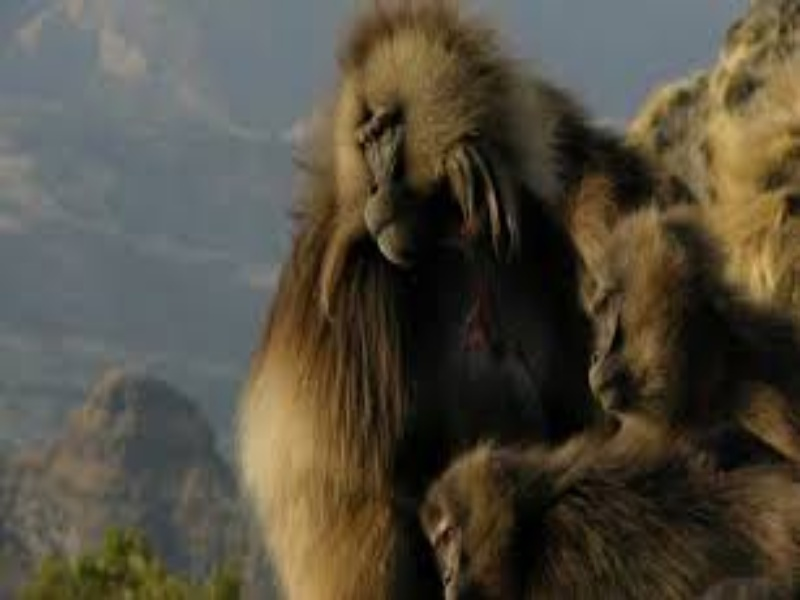monkey: (224, 8, 573, 324), (584, 192, 793, 432), (397, 450, 711, 600)
